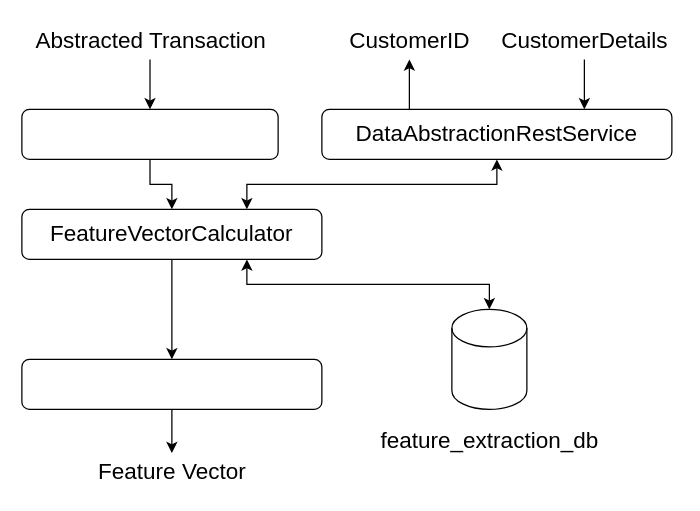
This 700x511 diagram has some shape labels left out. The centre of each missing label's shape, as x and y in pixels:
"FeatureVectorProducer" belongs at (x=171, y=383).
"TransactionConsumer" belongs at (x=149, y=133).
